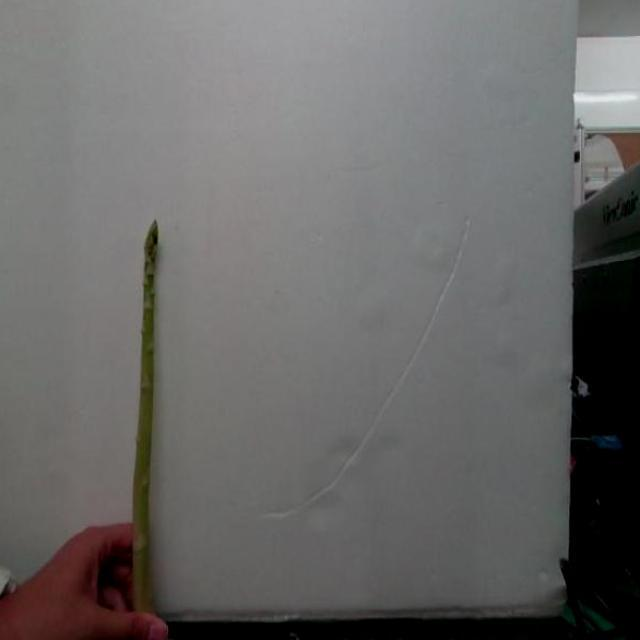aspargus: (131, 221, 161, 617)
